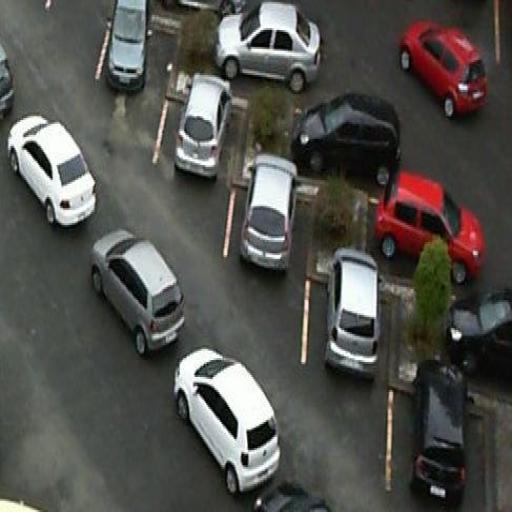car: (170, 347, 285, 499), (372, 167, 489, 294), (87, 227, 187, 360), (291, 88, 406, 190), (4, 112, 100, 232), (214, 0, 322, 99), (397, 17, 492, 127), (407, 354, 473, 512), (322, 242, 384, 386), (238, 152, 300, 279), (446, 279, 512, 394), (172, 69, 234, 186), (105, 0, 154, 98)
